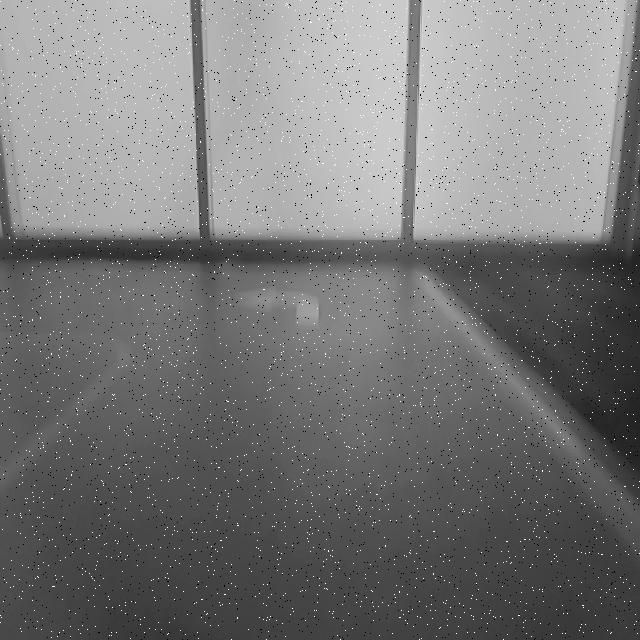left_lane: (2, 357, 134, 495)
right_lane: (421, 281, 640, 564)
